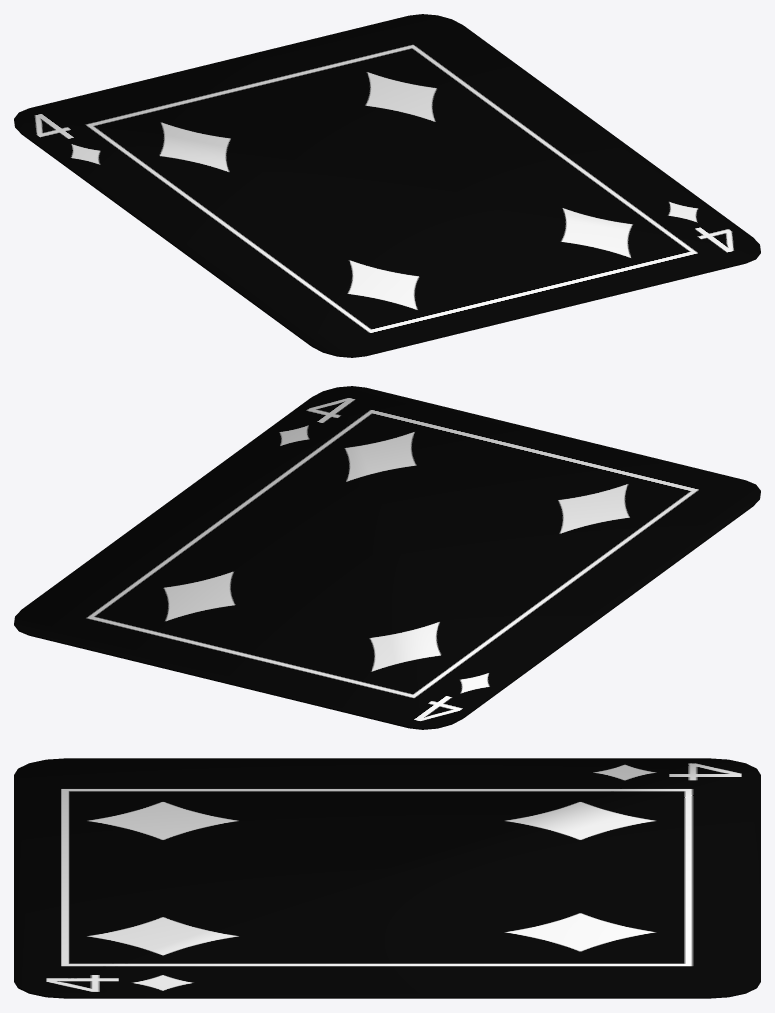
Rendered from Quatre_de_carreau.gltf.
The picture shows the model from 3 angles, top to bottom: view 1: azimuth 30°, elevation 25°; view 2: azimuth 150°, elevation 25°; view 3: azimuth 270°, elevation 25°; orthographic projection. The views are drawn at different scales.
Visible parts, largest first — view 1: Plane.001; view 2: Plane.001; view 3: Plane.001.
Part boxes in pixels (bbox=[...]): Plane.001: bbox=[14, 14, 760, 357]; Plane.001: bbox=[14, 386, 760, 729]; Plane.001: bbox=[14, 758, 760, 998].
Size of the model in its own units: 3.59 by 0.01 by 4.74.
2 materials, 2 textured.
